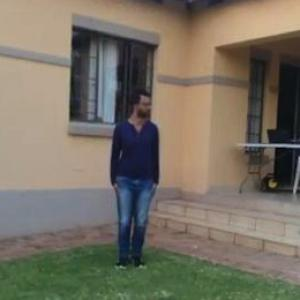follow: (107, 81, 168, 282)
